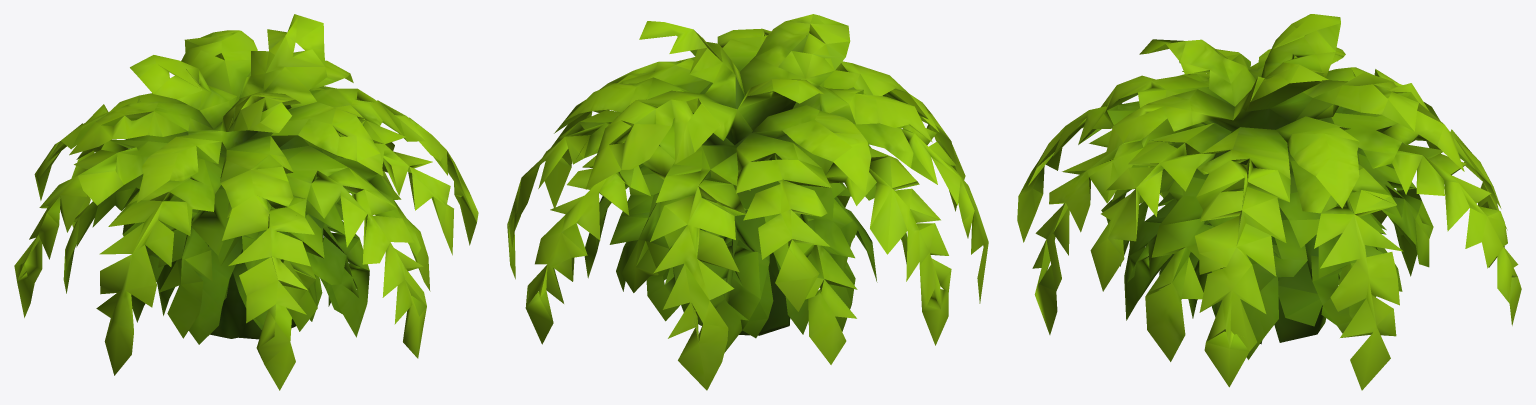
Rendered from fern.glb.
The picture shows the model from 3 angles, left to right: view 1: azimuth 30°, elevation 25°; view 2: azimuth 150°, elevation 25°; view 3: azimuth 270°, elevation 25°; orthographic projection. The views are drawn at different scales.
Visible parts, largest first — view 1: tripo_node_2f6522b3-f51e-4e28-874d-a16625cadc50; view 2: tripo_node_2f6522b3-f51e-4e28-874d-a16625cadc50; view 3: tripo_node_2f6522b3-f51e-4e28-874d-a16625cadc50.
Boxes of the visible parts, x1,y1,x2,y2 form: tripo_node_2f6522b3-f51e-4e28-874d-a16625cadc50: (14,14,478,390); tripo_node_2f6522b3-f51e-4e28-874d-a16625cadc50: (507,14,988,390); tripo_node_2f6522b3-f51e-4e28-874d-a16625cadc50: (1017,14,1521,390).
Bounding box in the file's own units: 1.42 × 0.8987 × 1.41.
1 material, 1 textured.
